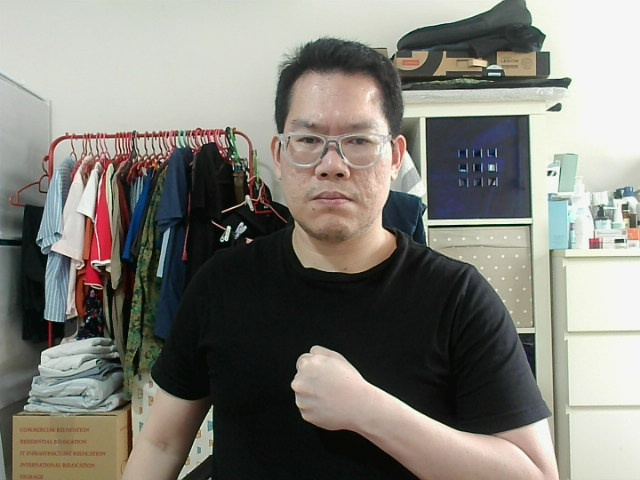sorry: (301, 354, 345, 419)
